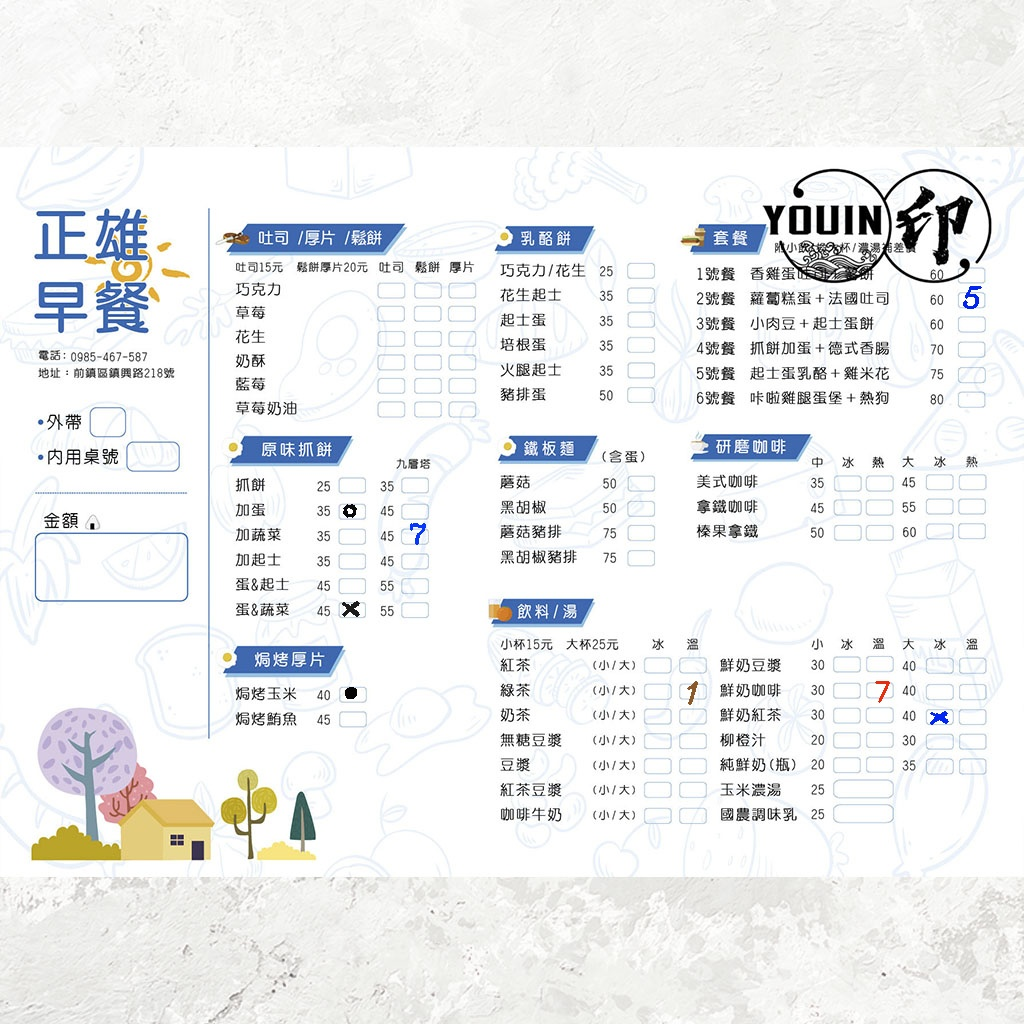marked_circle: (340, 686, 366, 700)
marked_hollow: (338, 503, 364, 517)
marked_number_1: (678, 686, 704, 700)
marked_number_5: (958, 293, 984, 307)
marked_number_7: (401, 528, 427, 542), (869, 682, 895, 696)
marked_x: (926, 711, 952, 725), (338, 602, 364, 616)
